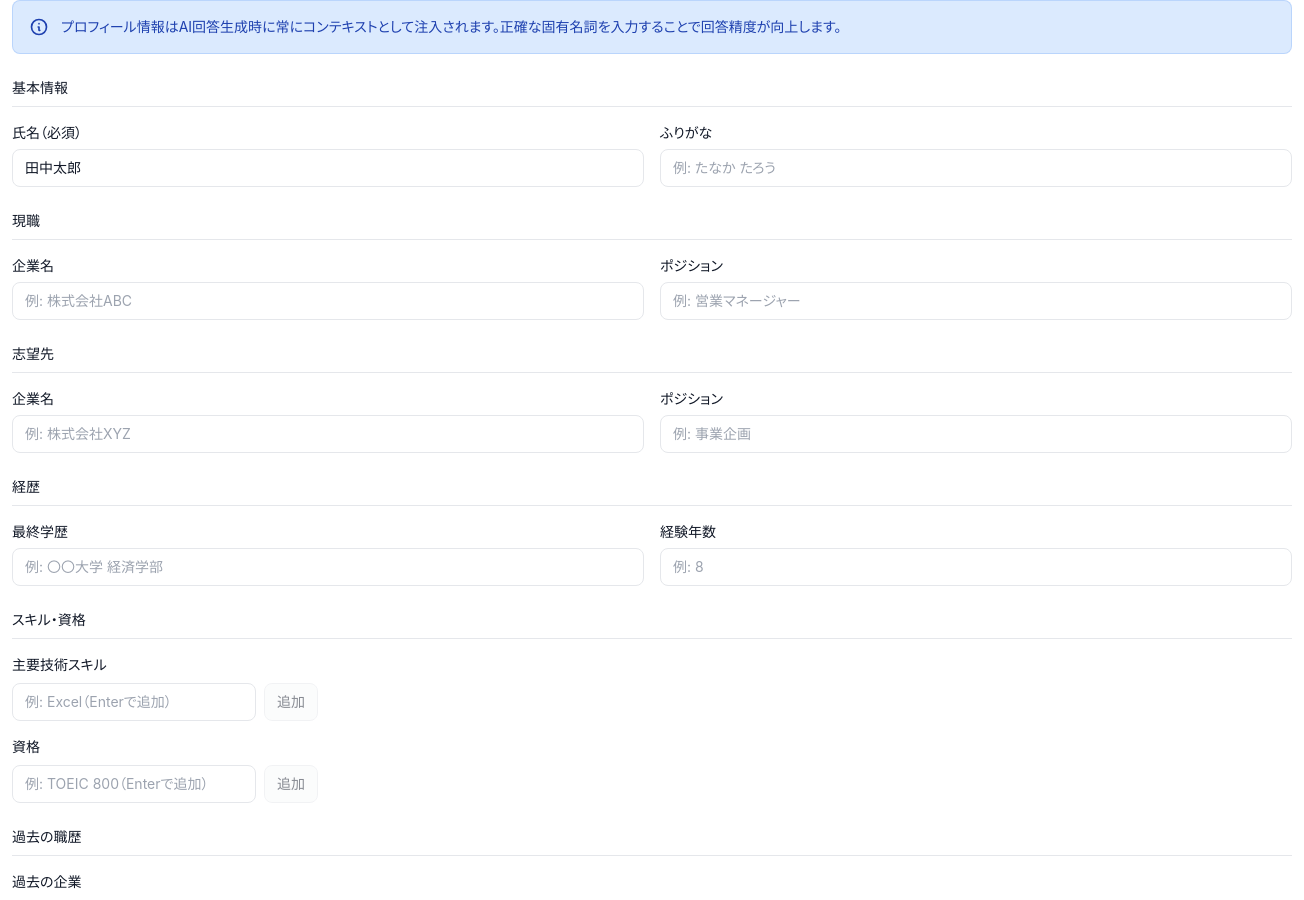
Scenario: ProfileTab › should add a tag when add button is clicked
// Find the technologies tag input by placeholder
Type "Go" into the field with placeholder "例: Excel（Enterで追加）".
click(134, 702); type("Go")  # box [12,683,256,721]
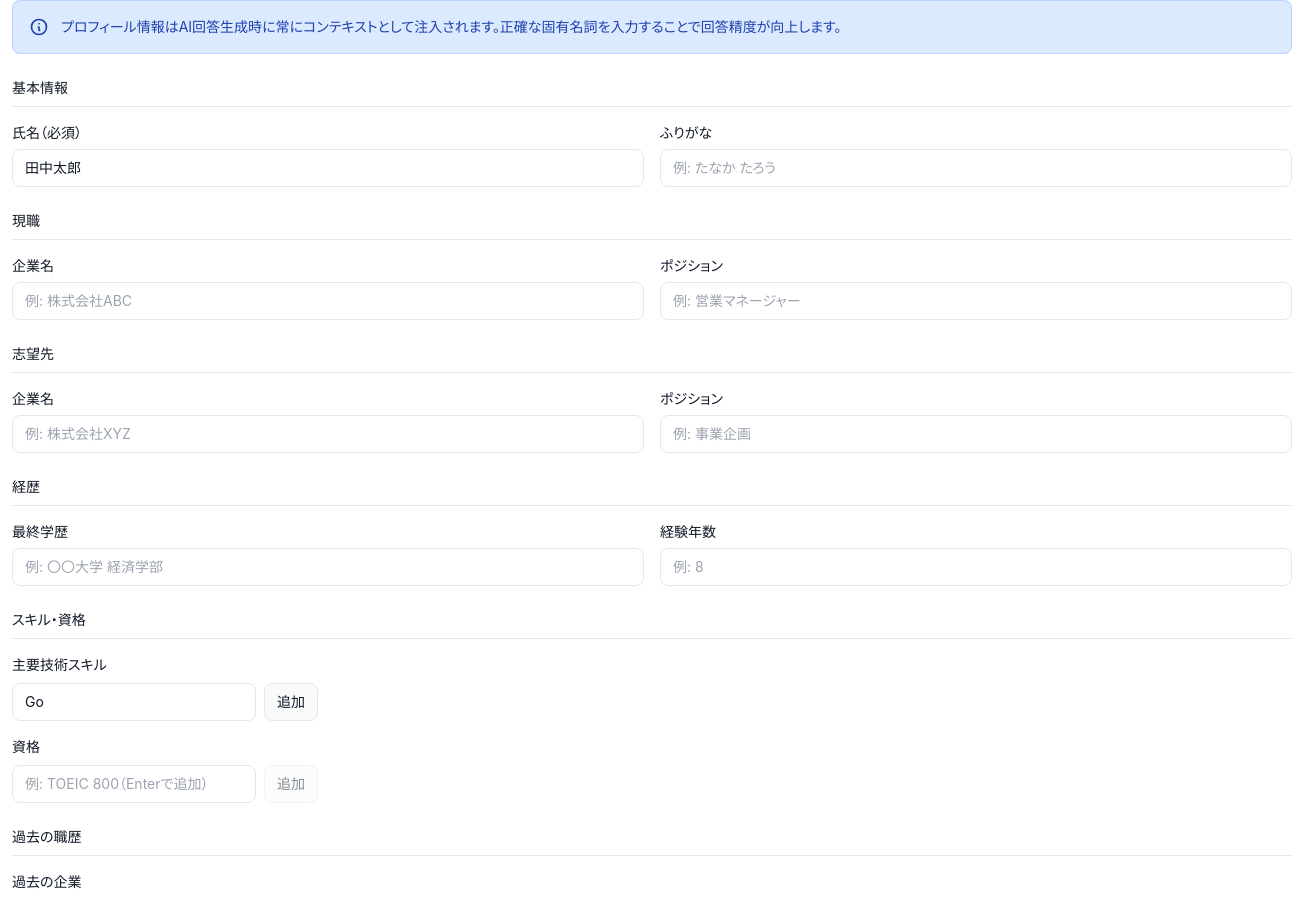
// Find the 追加 button next to this input
Click the button "追加" below "主要技術スキル".
click(291, 702)  # box [264,683,318,721]
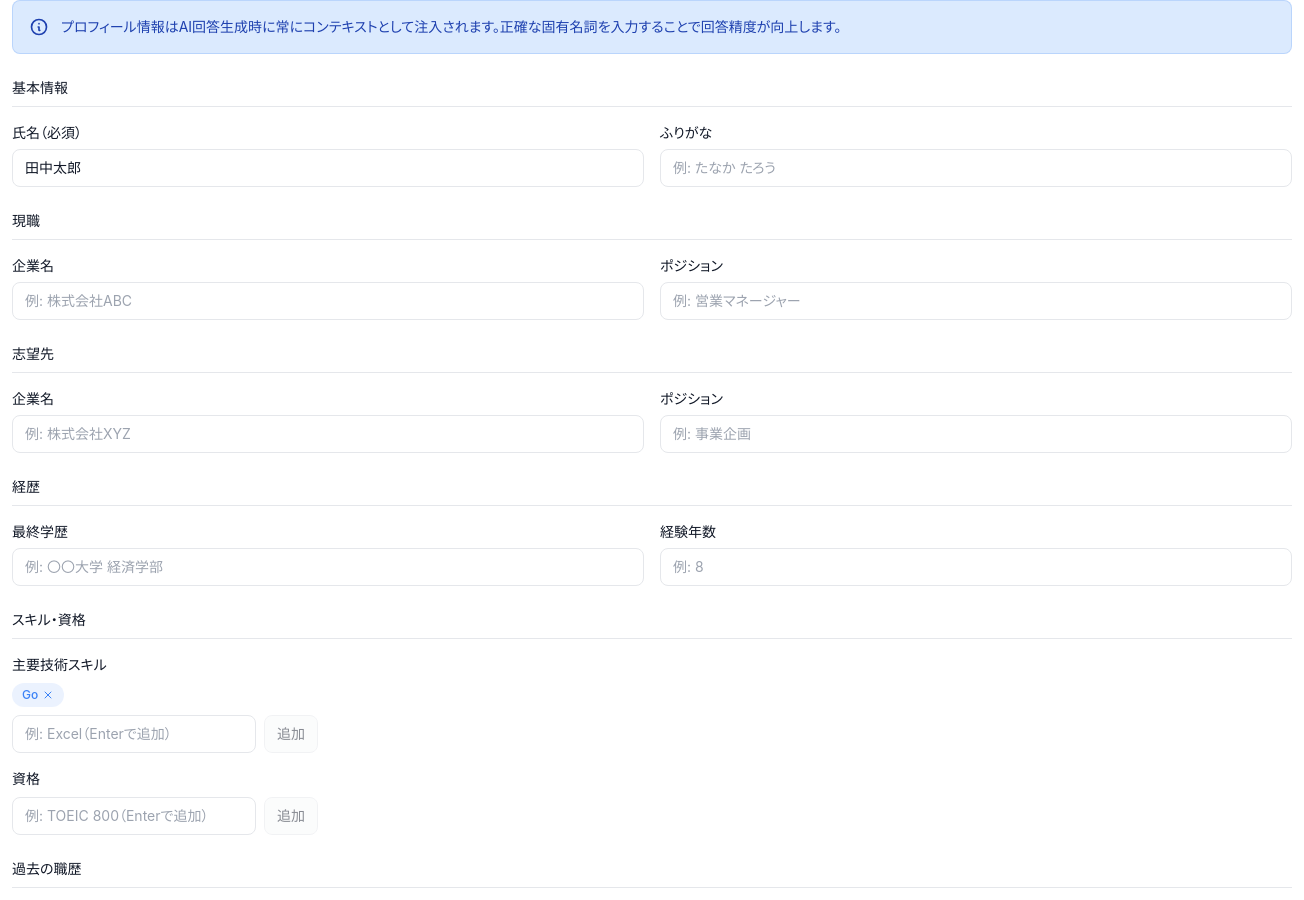
Expected: the text "Go" is shown, [12,683,64,707]
